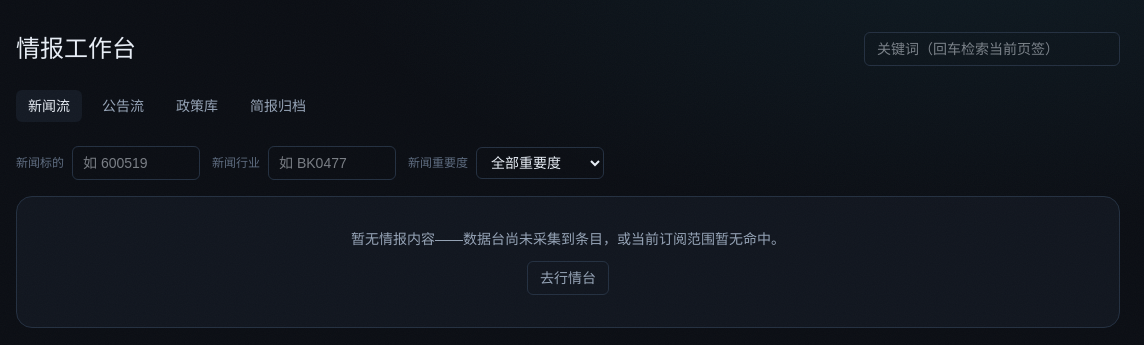
Scenario: IntelligenceBoard › seq 守卫：两次并发 fetch 只渲染后到的最新响应，过期响应被丢弃
Check: the element with test id "intel-empty" is shown, box [16,196,1120,328]
Type "600519" into the field labelled "新闻标的". click: point(136, 163)
box: [72,146,200,180]
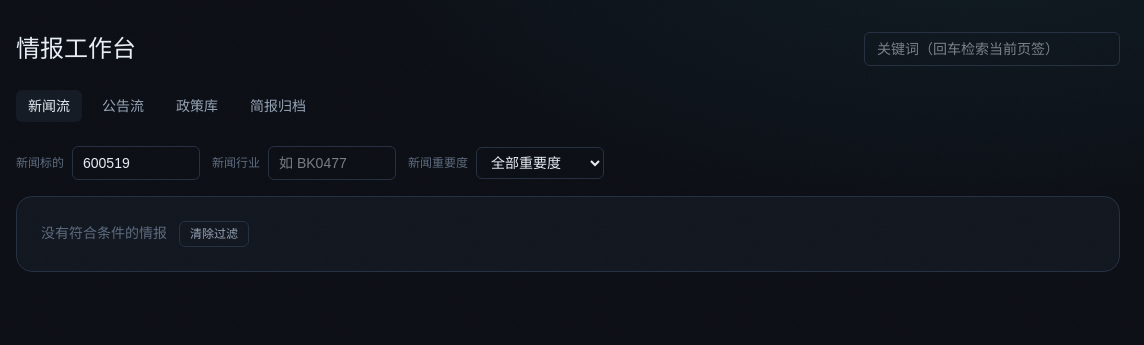
Replace the text in the field labelled "新闻标的" with "000001". click: point(136, 163)
box: [72,146,200,180]
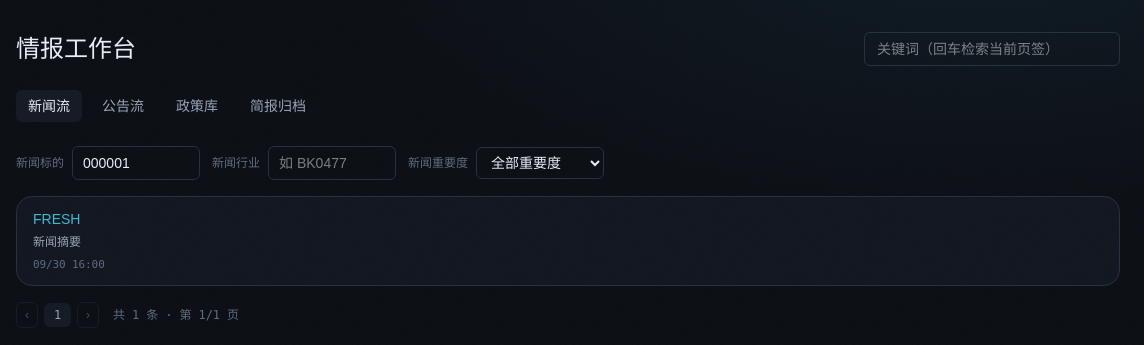
Check: the link "FRESH" is shown, box [33,211,80,227]
